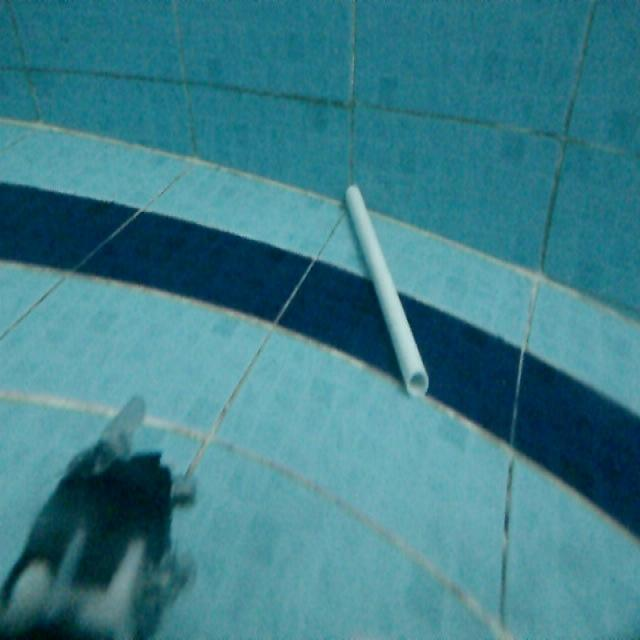Cube: (339, 176, 434, 400)
